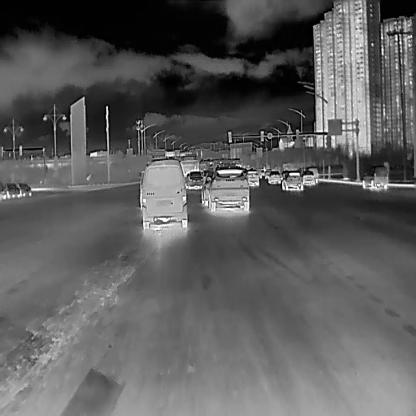car: (139, 158, 186, 230), (207, 166, 250, 213), (362, 164, 388, 190), (280, 171, 302, 191), (200, 173, 210, 205), (184, 171, 202, 188), (3, 182, 18, 198), (17, 180, 32, 196), (246, 169, 258, 187), (301, 170, 315, 185), (267, 168, 280, 184), (308, 167, 318, 182)
